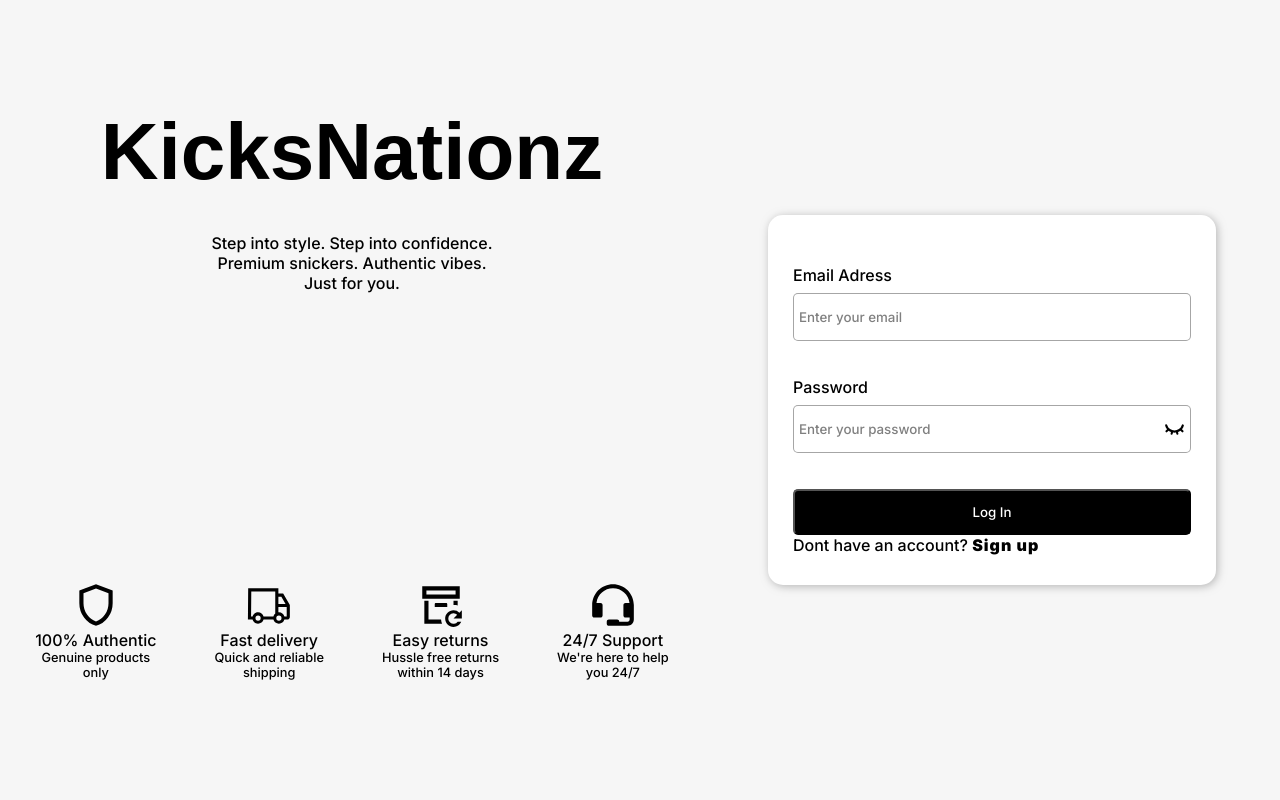
Test: Login page › toggles password visibility when the eye button is clicked
In the password field with id "loginPassword": coordinates (992, 429) [793,405,1191,453], type "qwerty78"
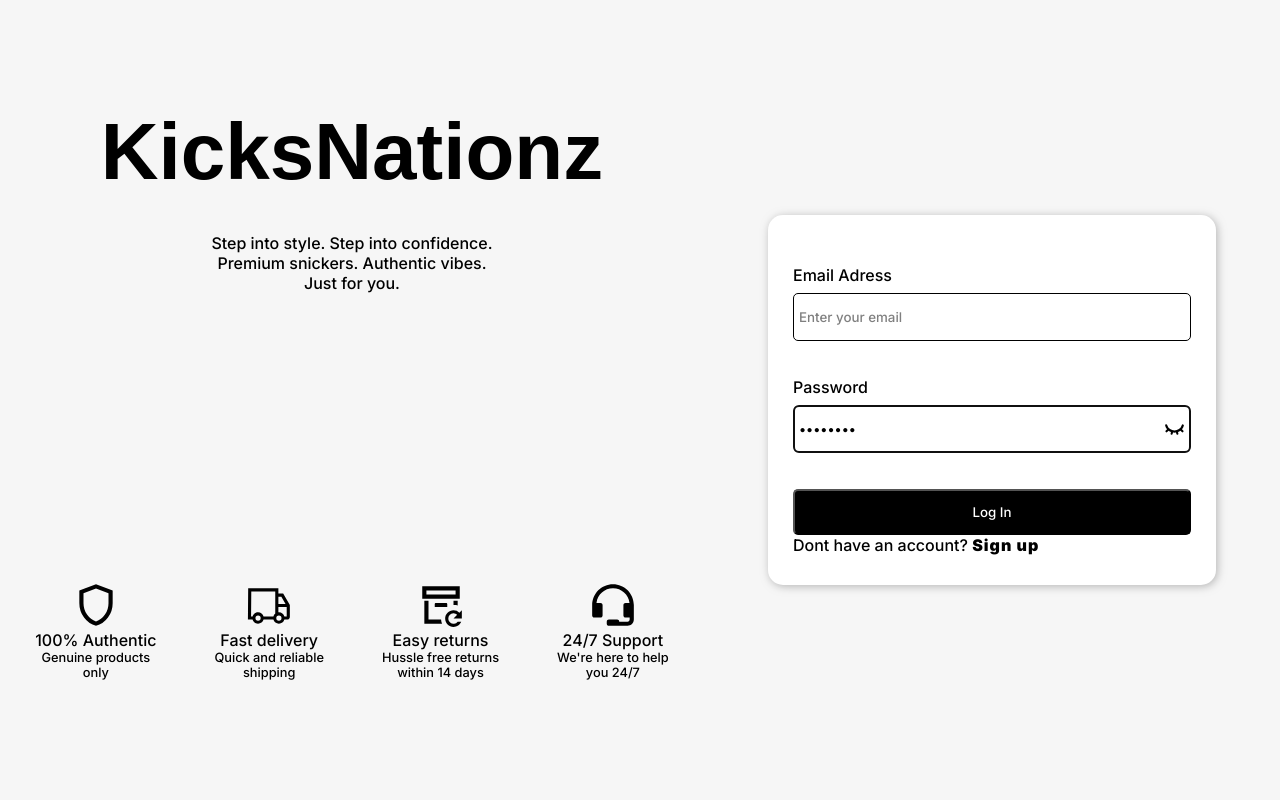
Click the button with class "loginPassword": coordinates (1175, 429) [1162,416,1187,441]
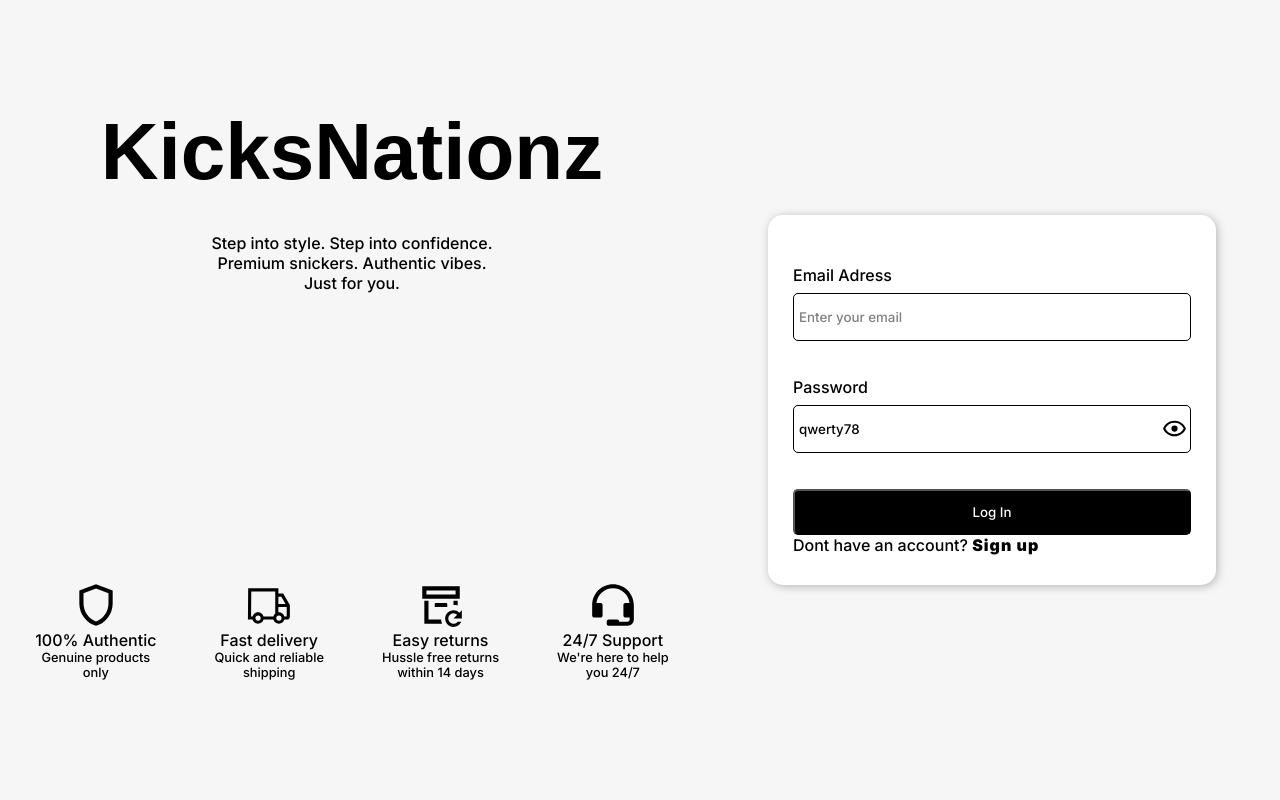
Check: the field with id "loginPassword" shows its text, box [793,405,1191,453]
Click the button with class "loginPassword": coordinates (1175, 429) [1162,416,1187,441]
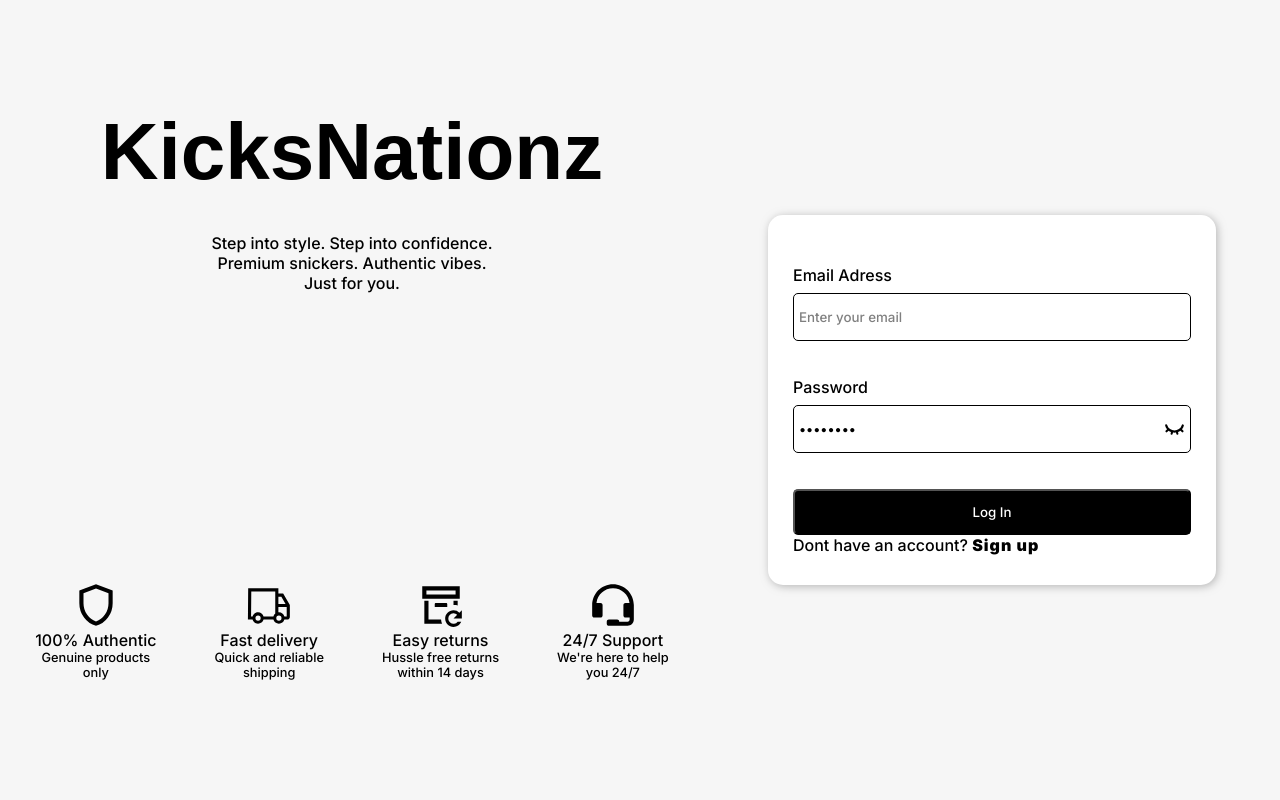
Check: the password field with id "loginPassword" hides its text, box [793,405,1191,453]
